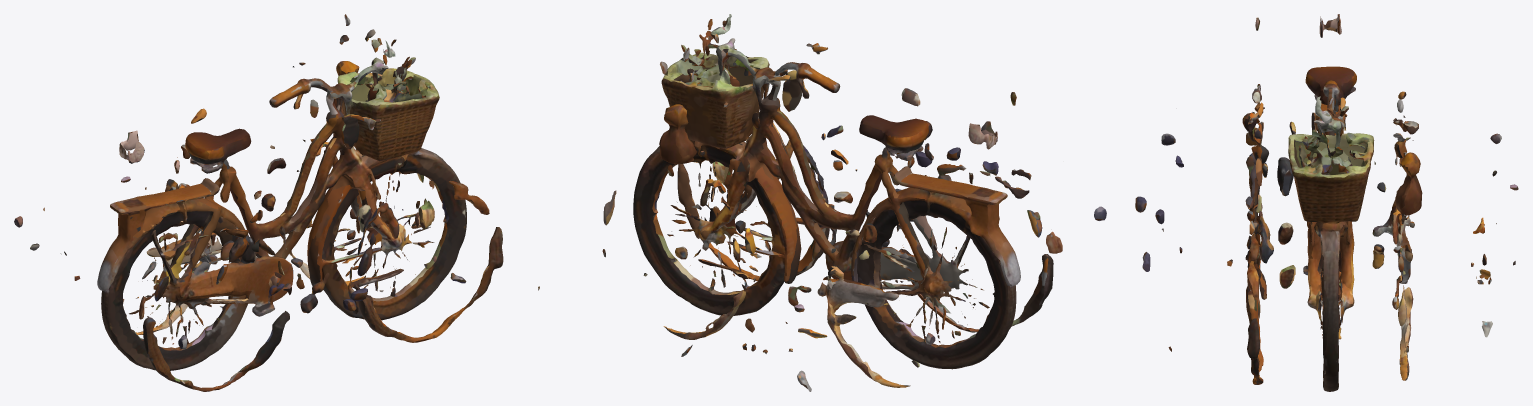
File: bicicleta.glb
The picture shows the model from 3 angles, left to right: view 1: azimuth 30°, elevation 25°; view 2: azimuth 150°, elevation 25°; view 3: azimuth 270°, elevation 25°; orthographic projection. The views are drawn at different scales.
Visible parts, largest first — view 1: tmpqq_i0wv3.ply; view 2: tmpqq_i0wv3.ply; view 3: tmpqq_i0wv3.ply.
Part boxes in pixels (x1=…): tmpqq_i0wv3.ply: x1=14, y1=14, x2=539, y2=391; tmpqq_i0wv3.ply: x1=602, y1=14, x2=1106, y2=391; tmpqq_i0wv3.ply: x1=1135, y1=14, x2=1518, y2=391.
Size of the model in its own units: 0.9973 by 0.7364 by 0.8995.
Materials: 1 (1 with a texture image).
